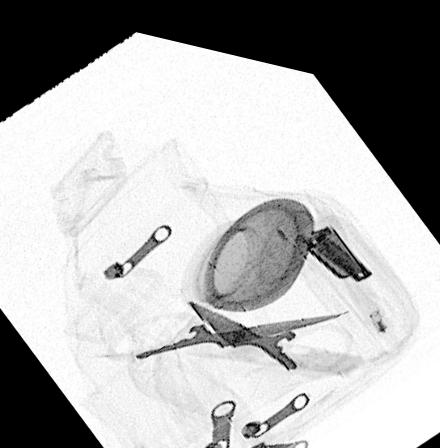Scissors: (98, 289, 352, 362)
